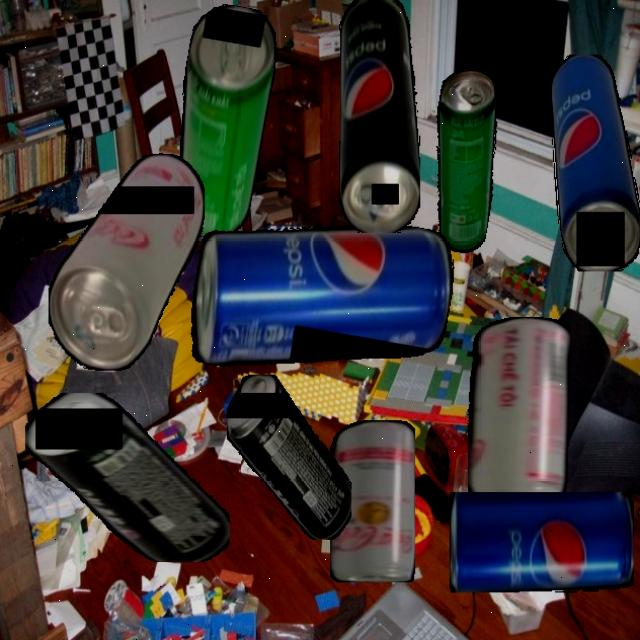debris: (182, 191, 462, 403), (24, 393, 230, 562), (48, 152, 204, 371), (158, 0, 285, 244), (226, 373, 351, 540), (551, 54, 640, 271), (467, 317, 570, 503), (338, 0, 420, 233), (414, 66, 514, 256), (449, 491, 634, 593), (329, 420, 415, 582)
